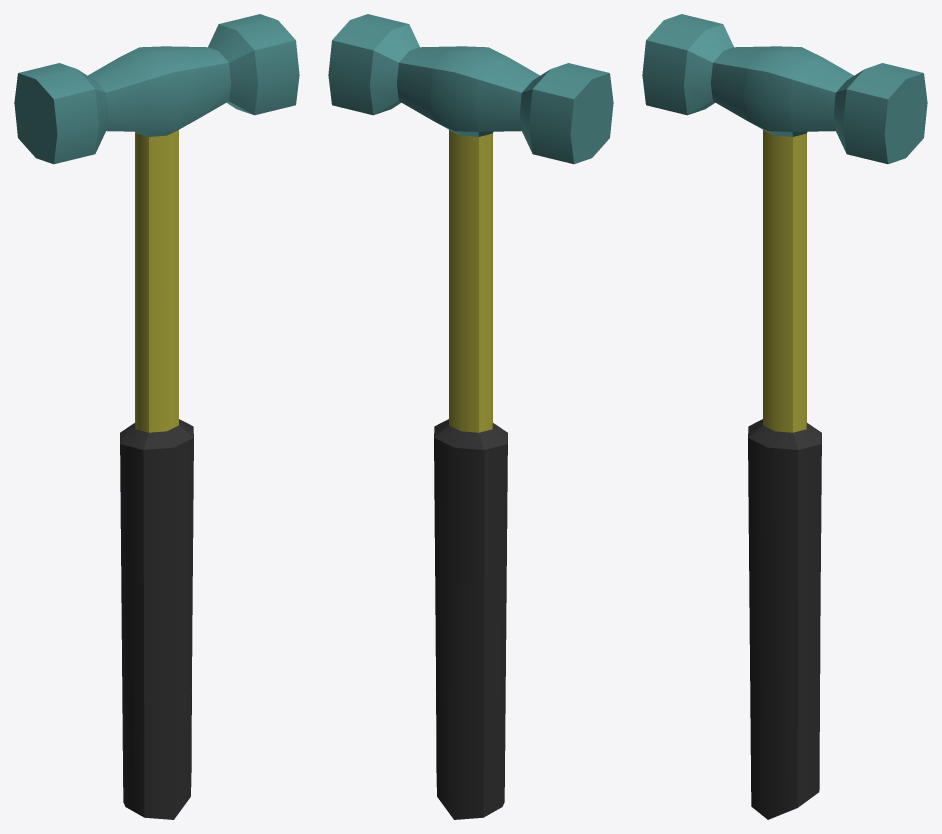
File: Hammer_Sub_Ready.obj
3 renders of one model, left to right at view 1: azimuth 30°, elevation 25°; view 2: azimuth 150°, elevation 25°; view 3: azimuth 330°, elevation 25°, orthographic.
Parts seen in each view (by area): view 1: pCube3; view 2: pCube3; view 3: pCube3.
Part boxes in pixels (left/top/right/bottom): pCube3: left=14, top=14, right=299, bottom=819; pCube3: left=328, top=14, right=613, bottom=819; pCube3: left=642, top=14, right=927, bottom=819.
Size of the model in its own units: 10.9 by 32.61 by 3.36.
